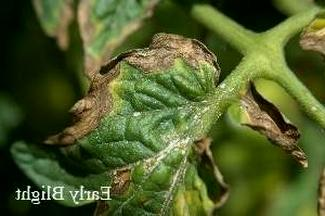Tomato Early blight leaf: (34, 36, 219, 216)
